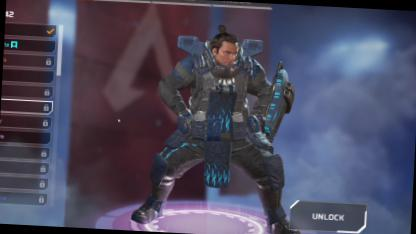Target: (151, 20, 296, 196)
